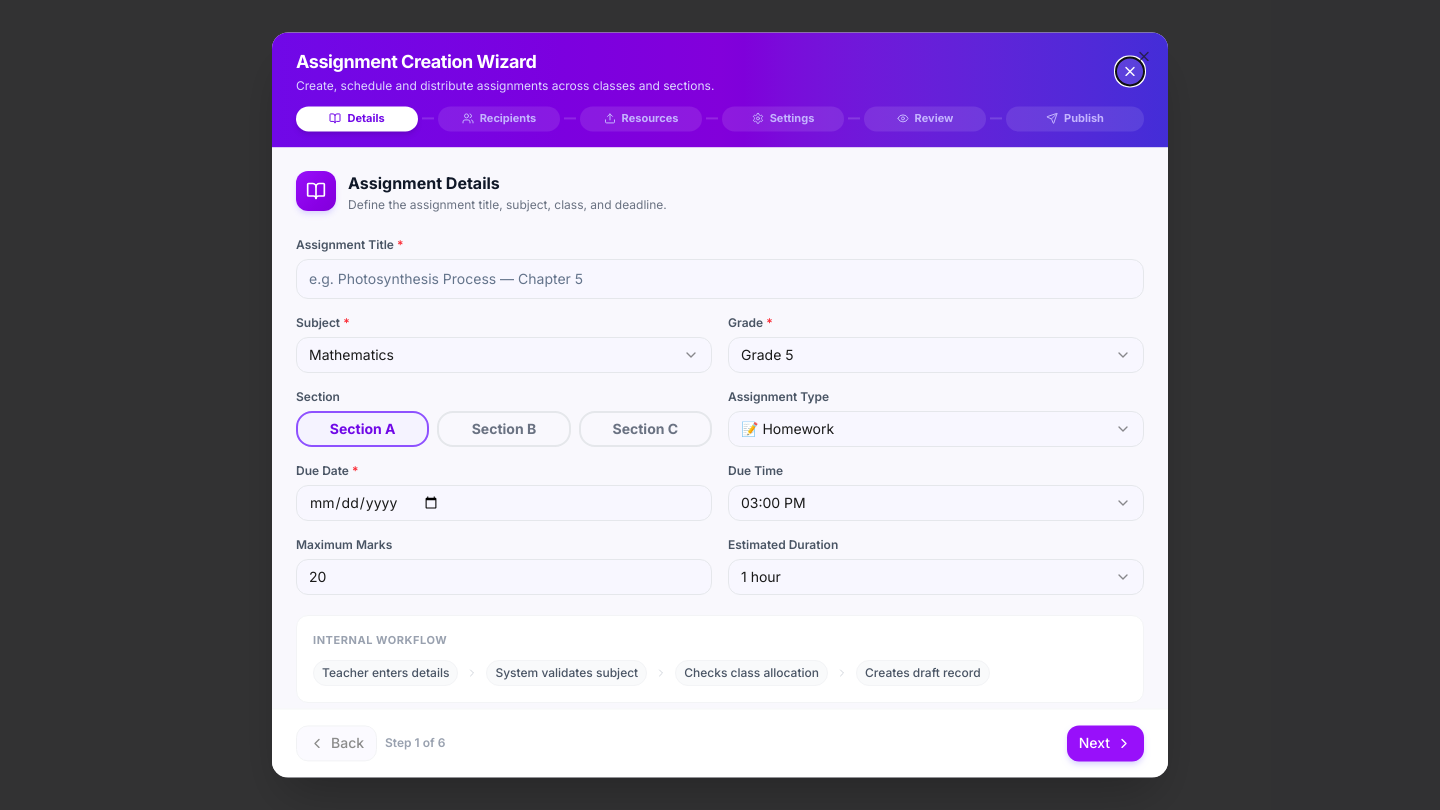
it: AssignmentWizard › navigates back with the Back button
The image size is (1440, 810).
Type "My Assignment" into the field with placeholder "e.g. Photosynthesis Process — Chapter 5" at (720,279), box [296, 259, 1144, 299]
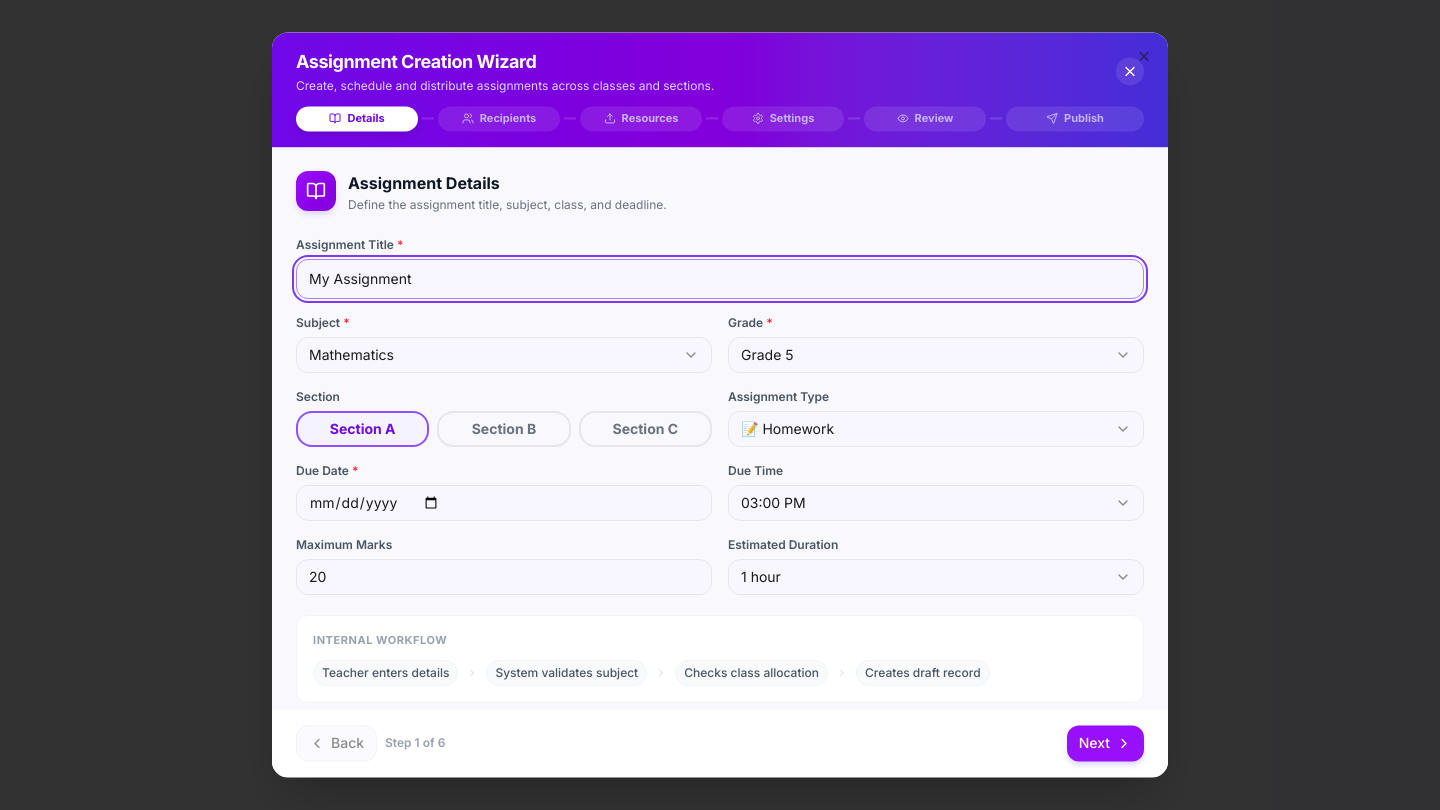
Type "2026-08-01" into the date field at (504,503), box [296, 485, 712, 521]
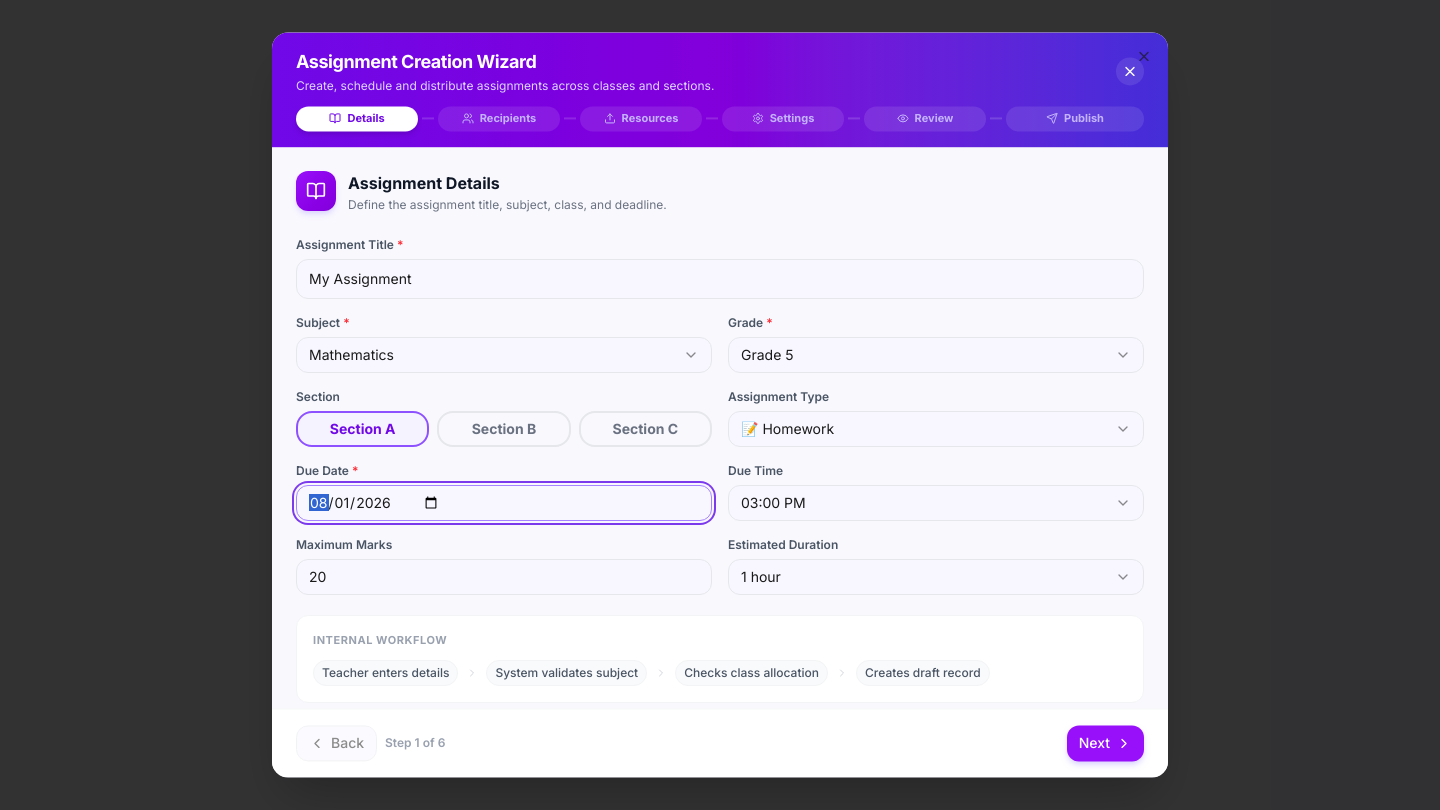
Click the button "Next" at (1105,744), box [1067, 726, 1144, 762]
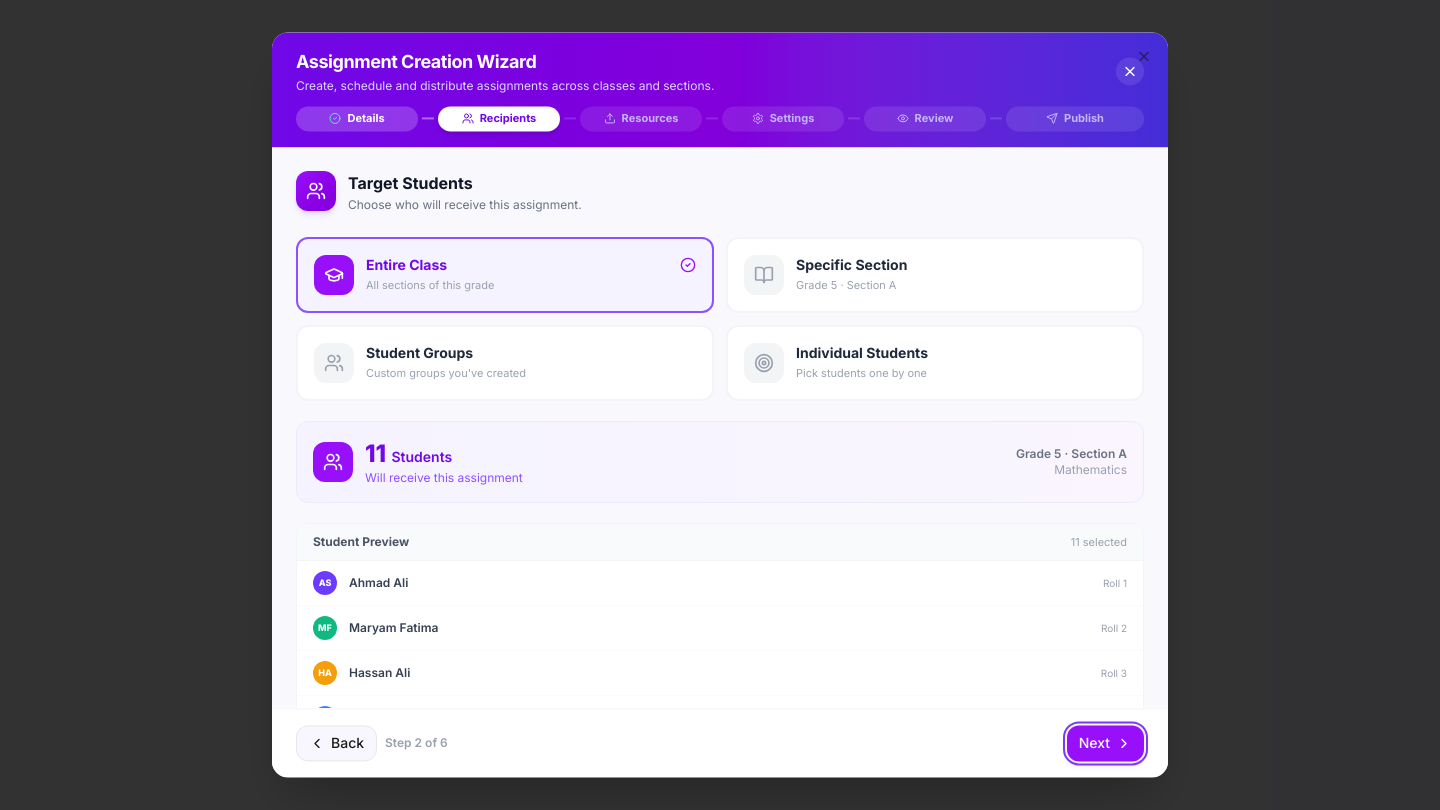
Expected: the heading "Target Students" is shown, [348, 173, 473, 193]
Click the button "Back" at (337,744), box [296, 726, 377, 762]
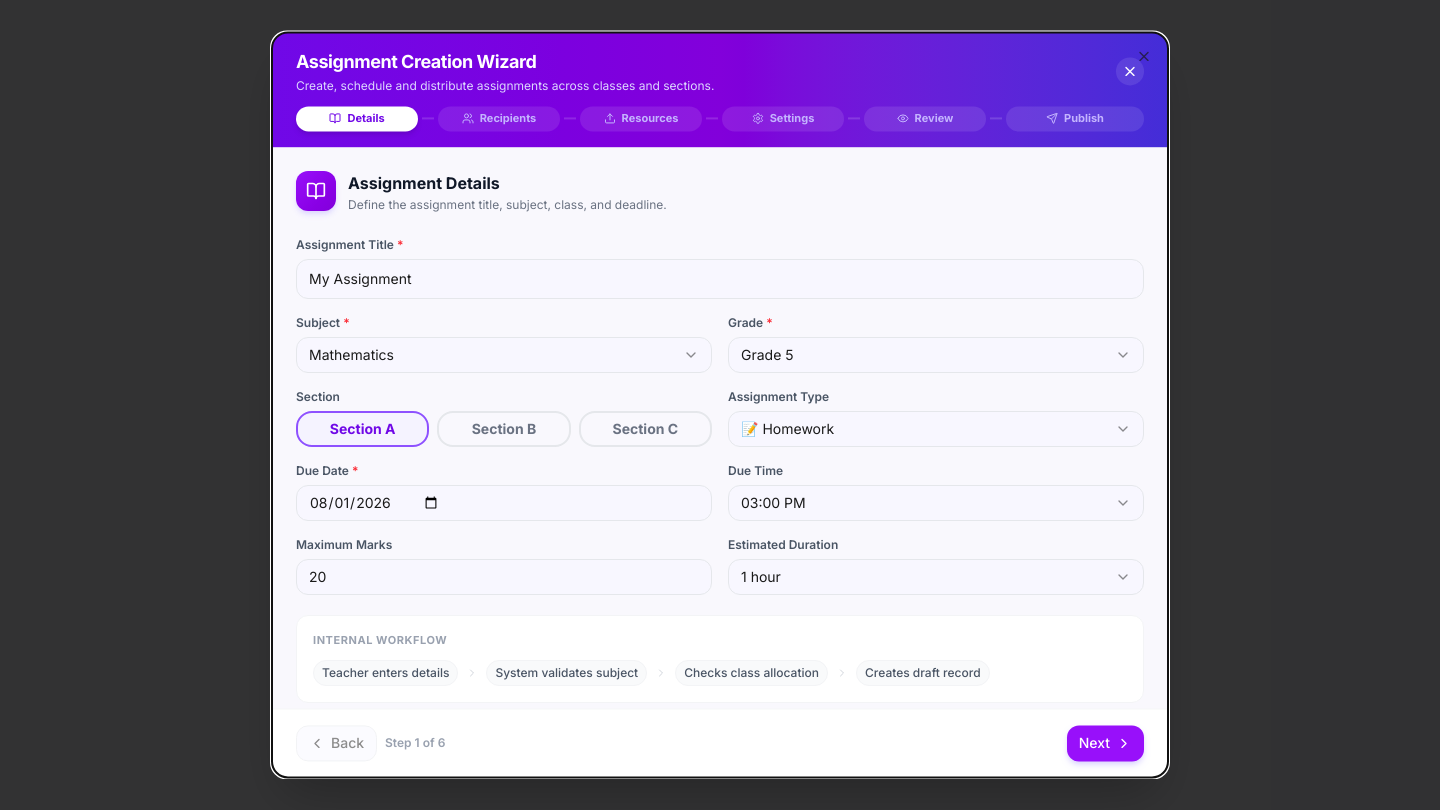
Expected: the heading "Assignment Details" is shown, [348, 173, 500, 193]
